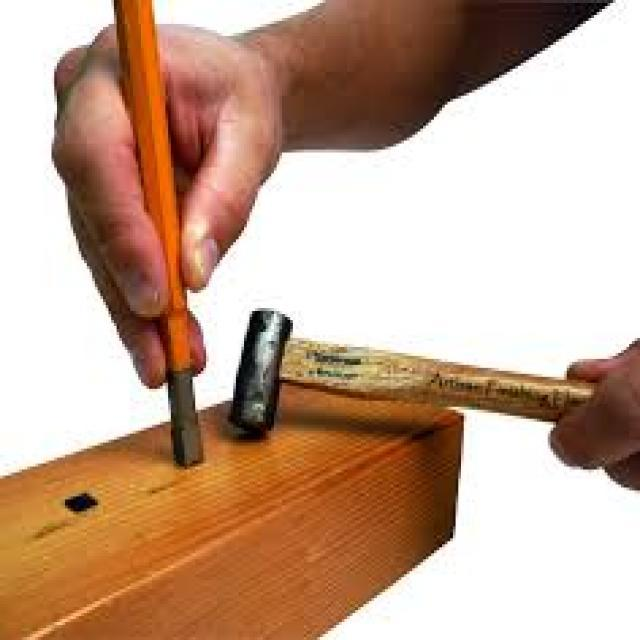hammer: (220, 290, 630, 452)
